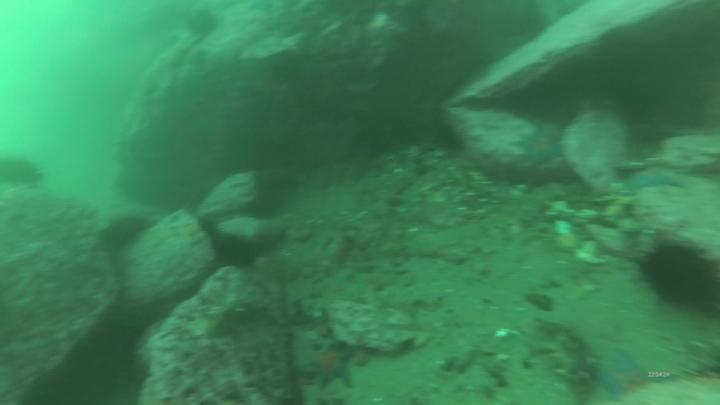echinus: (641, 247, 711, 305), (103, 215, 147, 251), (4, 158, 42, 187), (220, 241, 255, 267), (187, 9, 218, 36)
starfish: (601, 354, 648, 393), (515, 129, 561, 164), (309, 348, 351, 381), (631, 169, 674, 190), (175, 225, 208, 245)
